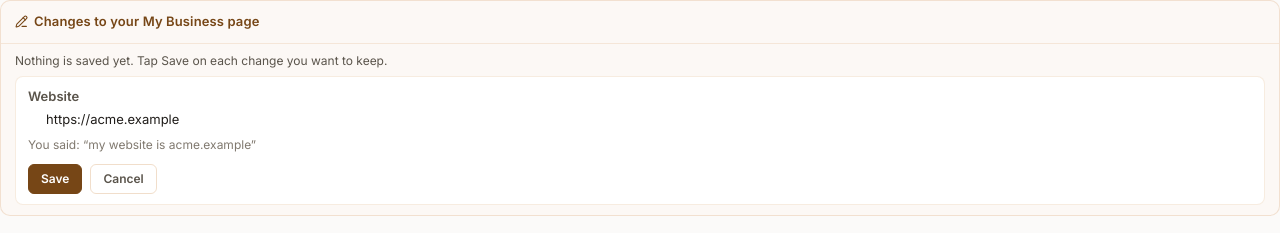
Test: ProfileUpdateArtifact › cancels without saving
The image size is (1280, 233).
What coordinates should you click on to do the following:
click the button "Cancel"
I would click on:
 (124, 178)
Its box is [90,164,157,194].
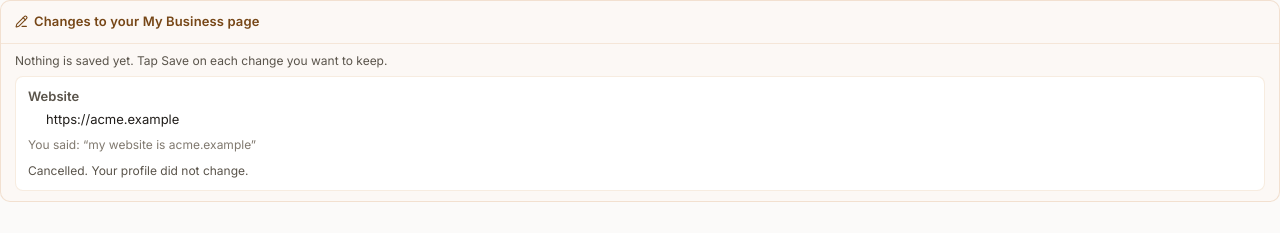
expect the text "Cancelled. Your profile did not change." is shown: met, box [28,162,248,178]
